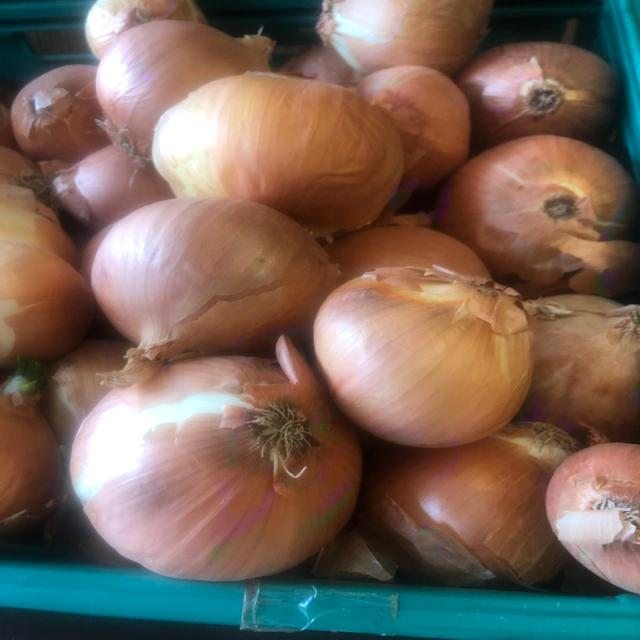onion: (67, 354, 368, 585), (88, 193, 345, 384), (144, 66, 407, 239), (304, 261, 540, 453), (438, 130, 640, 280), (455, 40, 628, 149)
